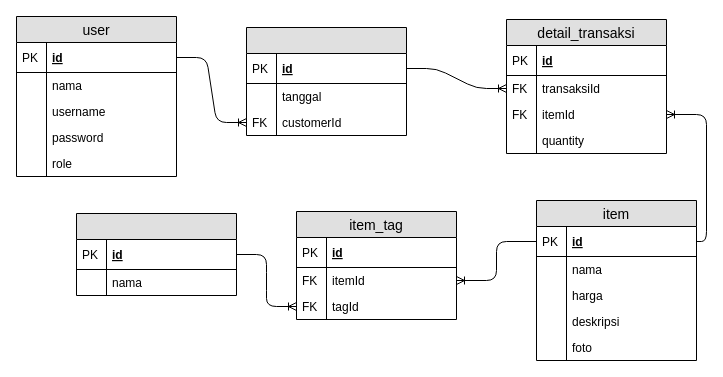
This 723x377 diagram has some shape labels left out. Each missing label, with the box of its shape:
tag: (76, 212, 236, 296)
transaksi: (246, 26, 406, 136)
